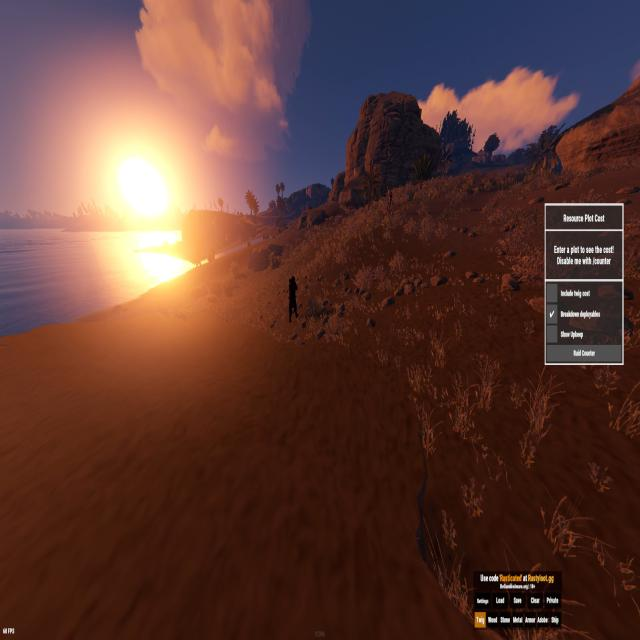Player: (288, 275, 299, 322), (386, 184, 392, 216)
